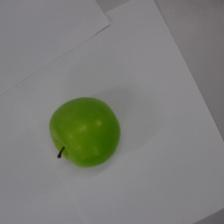green: (50, 97, 121, 166)
